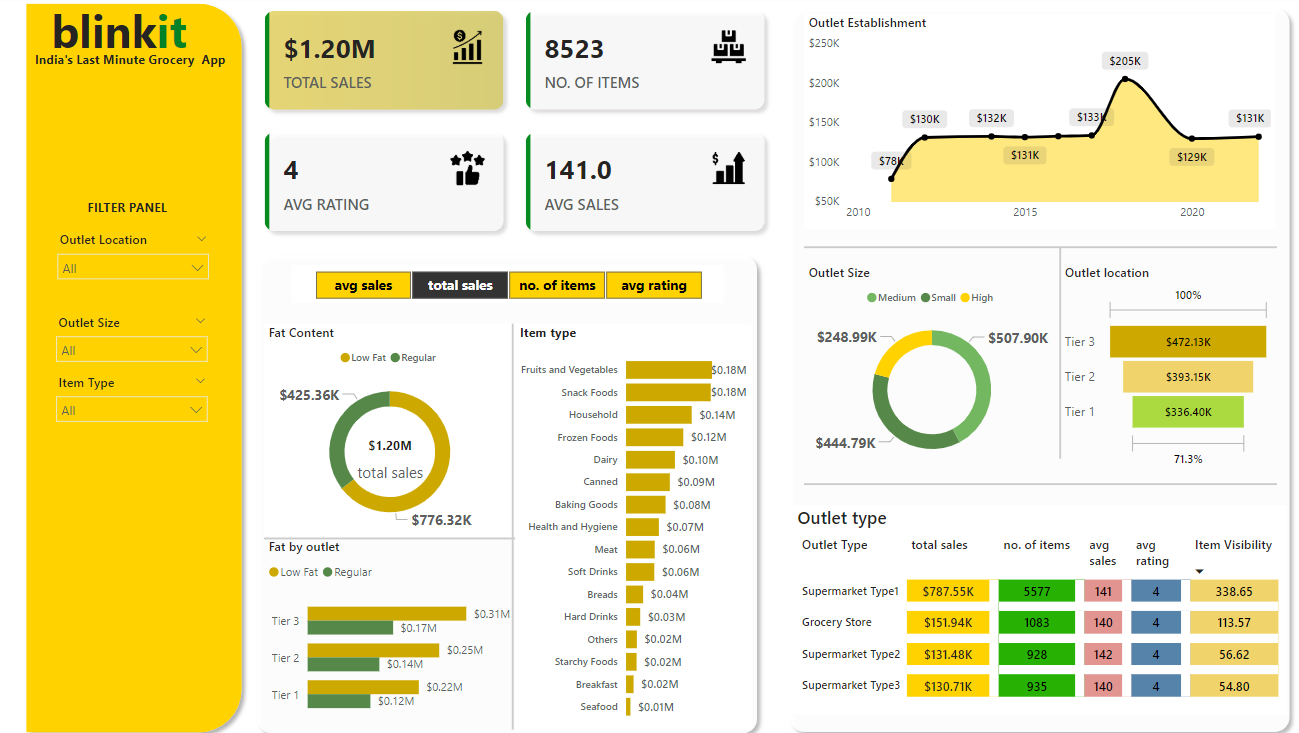

What the dashboard file says about the page in this screenshot:
{"tool":"powerbi","page":{"name":"Page 1","canvas":[1400,800],"ordinal":0},"visuals":[{"type":"shape","box":[19.5,0,249.1,800],"z":0},{"type":"textbox","box":[51,0,184.6,76.5],"z":1000},{"type":"textbox","box":[33,55.5,235.6,40.5],"z":2000},{"type":"cardVisual","fields":{"Data":["BlinkIT Grocery Data.total sales","BlinkIT Grocery Data.no. of items","BlinkIT Grocery Data.avg rating","BlinkIT Grocery Data.avg sales"]},"box":[268.7,0,570.3,270.2],"z":3000},{"type":"shape","box":[268.7,270.2,553.8,529.8],"z":4000},{"type":"donutChart","title":"Fat Content","fields":{"Y":["BlinkIT Grocery Data.total sales"],"Category":["BlinkIT Grocery Data.Item Fat Content"]},"box":[283.7,352.7,270.2,229.6],"z":5000},{"type":"slicer","fields":{"Values":["metrix.metrix"]},"box":[313.7,289.7,463.8,40.5],"z":6000},{"type":"card","fields":{"Values":["BlinkIT Grocery Data.total sales"]},"box":[361.7,468.3,115.6,57],"z":7000},{"type":"clusteredBarChart","title":"Fat by outlet","fields":{"Y":["BlinkIT Grocery Data.total sales"],"Category":["BlinkIT Grocery Data.Outlet Location Type"],"Series":["BlinkIT Grocery Data.Item Fat Content"]},"box":[283.7,582.3,270.2,205.6],"z":8000},{"type":"shape","box":[283.7,447.3,270.2,270.2],"z":9000},{"type":"shape","box":[420.2,352.7,262.7,435.3],"z":10000},{"type":"barChart","title":"Item type","fields":{"Y":["BlinkIT Grocery Data.total sales"],"Category":["BlinkIT Grocery Data.Item Type"]},"box":[553.8,352.7,253.6,435.3],"z":11000},{"type":"shape","box":[839,6,553.8,794],"z":12000},{"type":"shape","box":[863,135.1,507.3,270.2],"z":14000},{"type":"donutChart","title":"Outlet Size","fields":{"Y":["BlinkIT Grocery Data.total sales"],"Category":["BlinkIT Grocery Data.Outlet Size"]},"box":[863,288.2,274.7,225.1],"z":15000},{"type":"shape","box":[1007.1,270.2,262.7,226.6],"z":16000},{"type":"funnel","title":"Outlet location","fields":{"Category":["BlinkIT Grocery Data.Outlet Location Type"],"Y":["BlinkIT Grocery Data.total sales"]},"box":[1137.7,288.2,231.1,225.1],"z":17000},{"type":"shape","box":[863,451.8,507.3,145.6],"z":18000},{"type":"pivotTable","title":"Outlet type","fields":{"Rows":["BlinkIT Grocery Data.Outlet Type"],"Values":["BlinkIT Grocery Data.total sales","BlinkIT Grocery Data.no. of items","BlinkIT Grocery Data.avg sales","BlinkIT Grocery Data.avg rating","Sum(BlinkIT Grocery Data.Item Visibility)"]},"box":[851,546.3,529.8,225.1],"z":19000},{"type":"lineChart","title":"Outlet Establishment ","fields":{"Y":["BlinkIT Grocery Data.total sales"],"Category":["BlinkIT Grocery Data.Outlet Establishment Year"]},"box":[863,19.5,505.8,231.1],"z":19001},{"type":"slicer","fields":{"Values":["BlinkIT Grocery Data.Outlet Location Type"]},"box":[52.5,247.6,183.1,79.5],"z":19002},{"type":"slicer","fields":{"Values":["BlinkIT Grocery Data.Outlet Size"]},"box":[51,336.2,183.1,67.5],"z":19003},{"type":"slicer","fields":{"Values":["BlinkIT Grocery Data.Item Type"]},"box":[51,400.7,183.1,67.5],"z":19004},{"type":"textbox","box":[90.1,213.1,105.1,34.5],"z":19005}]}

Visuals, with their boxes in screenshot pixels (x1, y1, x2, y2), scaled from the page's 1400x800 canvas onto the 1299x733 screenshot:
shape: <region>18, 0, 249, 732</region>
textbox: <region>47, 0, 219, 70</region>
textbox: <region>31, 51, 249, 88</region>
cardVisual - BlinkIT Grocery Data.total sales x BlinkIT Grocery Data.no. of items: <region>249, 0, 778, 248</region>
shape: <region>249, 248, 763, 732</region>
"Fat Content" donutChart: <region>263, 323, 514, 534</region>
slicer - metrix.metrix: <region>291, 265, 721, 303</region>
card - BlinkIT Grocery Data.total sales: <region>336, 429, 443, 481</region>
"Fat by outlet" clusteredBarChart: <region>263, 534, 514, 722</region>
shape: <region>263, 410, 514, 657</region>
shape: <region>390, 323, 634, 722</region>
"Item type" barChart: <region>514, 323, 749, 722</region>
shape: <region>778, 5, 1292, 732</region>
shape: <region>801, 124, 1271, 371</region>
"Outlet Size" donutChart: <region>801, 264, 1056, 470</region>
shape: <region>934, 248, 1178, 455</region>
"Outlet location" funnel: <region>1056, 264, 1270, 470</region>
shape: <region>801, 414, 1271, 547</region>
"Outlet type" pivotTable: <region>790, 501, 1281, 707</region>
"Outlet Establishment " lineChart: <region>801, 18, 1270, 230</region>
slicer - BlinkIT Grocery Data.Outlet Location Type: <region>49, 227, 219, 300</region>
slicer - BlinkIT Grocery Data.Outlet Size: <region>47, 308, 217, 370</region>
slicer - BlinkIT Grocery Data.Item Type: <region>47, 367, 217, 429</region>
textbox: <region>84, 195, 181, 227</region>
